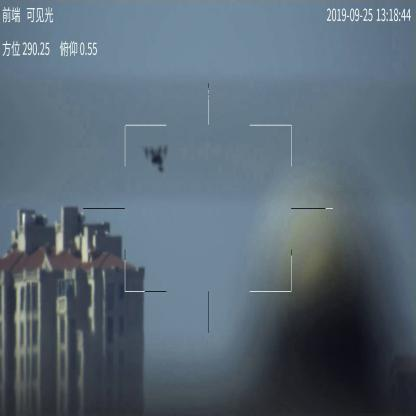uav: (142, 143, 170, 172)
